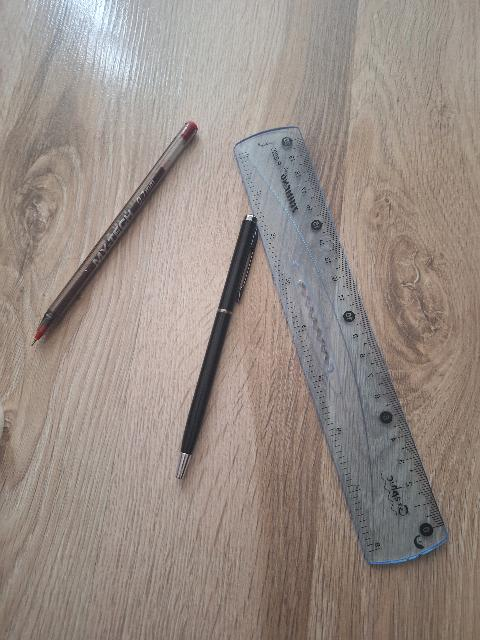writing_tool: (27, 116, 199, 340), (169, 212, 260, 481)
